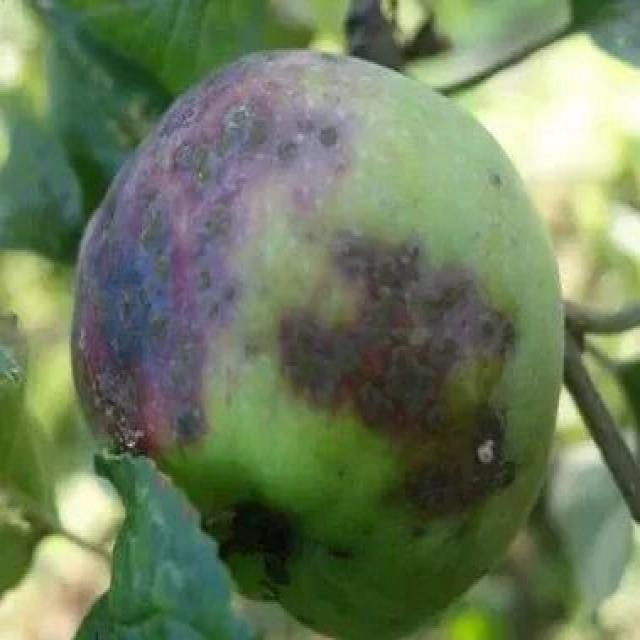Rotten: (48, 49, 567, 594)
